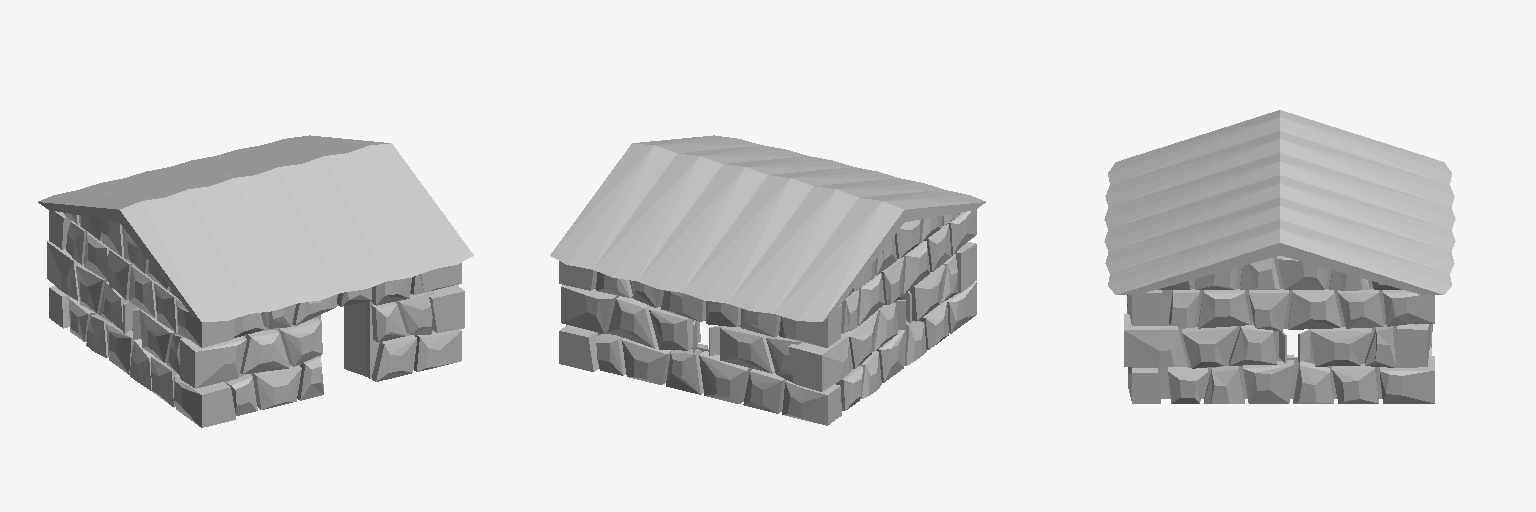
The model's file is small_medieval_house.obj.
3 views of the same model, side by side, from view 1: azimuth 30°, elevation 25°; view 2: azimuth 150°, elevation 25°; view 3: azimuth 270°, elevation 25° (orthographic).
Parts seen in each view (by area): view 1: SmallMedievalHouse; view 2: SmallMedievalHouse; view 3: SmallMedievalHouse.
Part boxes in pixels (x1,y1,x2,y2): SmallMedievalHouse: (38, 135, 473, 427); SmallMedievalHouse: (550, 135, 985, 425); SmallMedievalHouse: (1104, 110, 1455, 403).
Size of the model in its own units: 5.16 by 3.01 by 5.75.